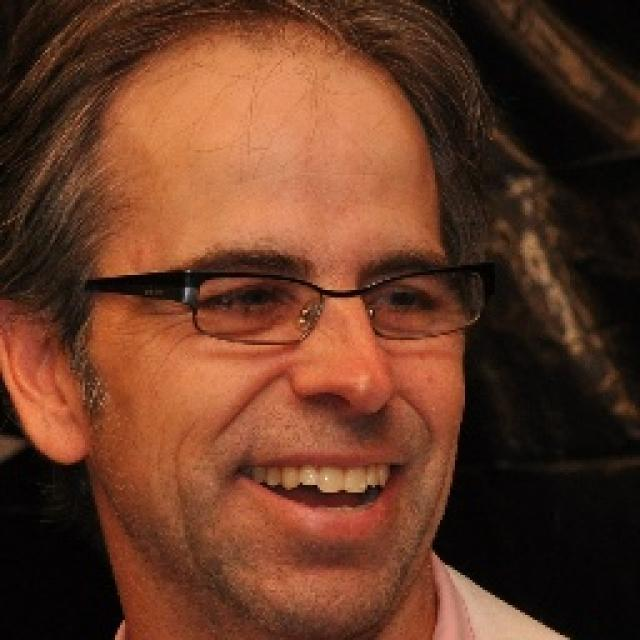earlobe: (0, 278, 88, 462)
